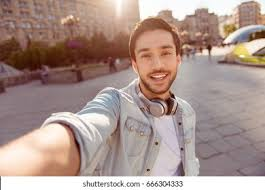Human_Male: (111, 26, 193, 176)
